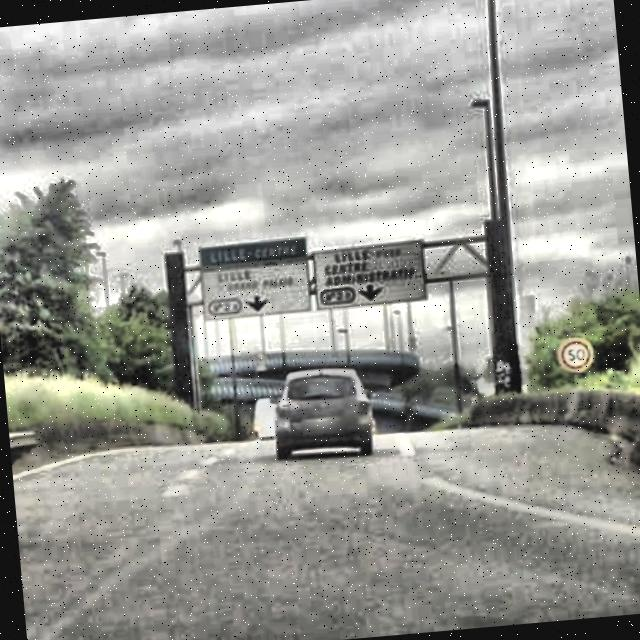speed_50: (560, 338, 592, 372)
